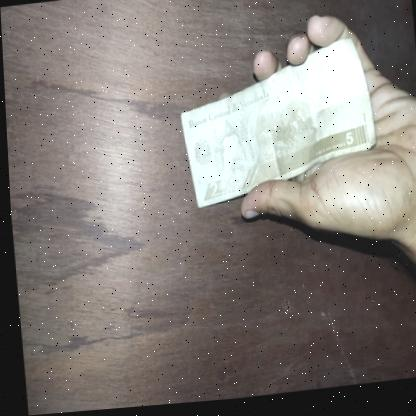five-back-vef: (175, 42, 378, 213)
